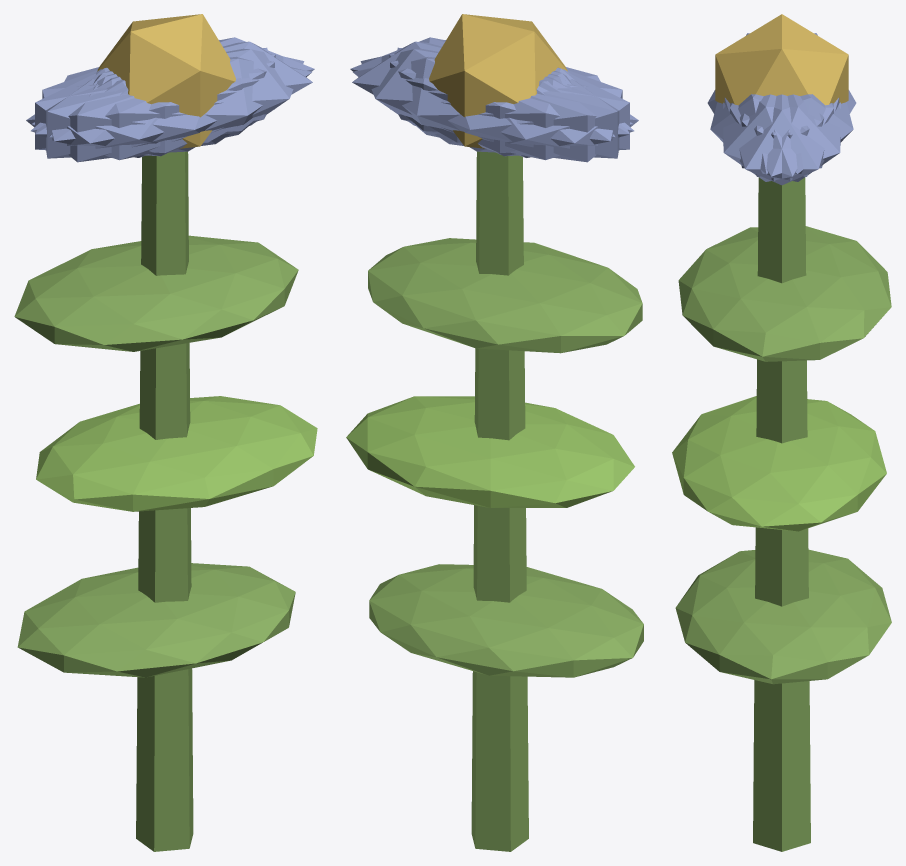
The model's file is citrus-maxima.glb.
3 renders of one model, left to right at view 1: azimuth 30°, elevation 25°; view 2: azimuth 150°, elevation 25°; view 3: azimuth 270°, elevation 25°, orthographic.
Parts seen in each view (by area): view 1: stem, leaf1, leaf2, leaf0, center, petal1, petal6, petal2, petal5, petal7, petal0, petal4 (+2 smaller); view 2: stem, leaf2, leaf0, leaf1, center, petal8, petal3, petal7, petal4, petal2, petal0, petal5 (+2 smaller); view 3: stem, leaf1, leaf2, leaf0, center, petal0, petal4, petal5, petal1, petal8.
Part boxes in pixels (x1,y1,x2,y2): stem: (136,151,193,851); leaf1: (36,396,317,511); leaf2: (14,235,298,351); leaf0: (17,563,295,677); center: (97,14,235,148); petal1: (31,56,311,160); petal6: (26,69,229,162); petal2: (46,47,267,158); petal5: (49,48,304,152); petal7: (35,53,275,156); petal0: (97,41,312,143); petal4: (32,37,314,134); stem: (471,151,528,851); leaf2: (368,238,642,353); leaf0: (369,564,643,677); leaf1: (346,396,634,507); center: (429,14,567,148); petal8: (353,56,634,160); petal3: (435,69,638,162); petal7: (397,47,619,158); petal4: (360,48,615,152); petal2: (389,53,629,156); petal0: (352,41,567,143); petal5: (350,37,632,134); stem: (753,177,810,851); leaf1: (672,396,886,531); leaf2: (678,226,891,361); leaf0: (675,549,891,684); center: (715,14,848,105); petal0: (724,94,839,185); petal4: (730,94,840,181); petal5: (723,94,833,181); petal1: (710,94,823,174); petal8: (740,94,853,174).
Bounding box in the file's own units: 0.1492 × 0.409 × 0.1009.
